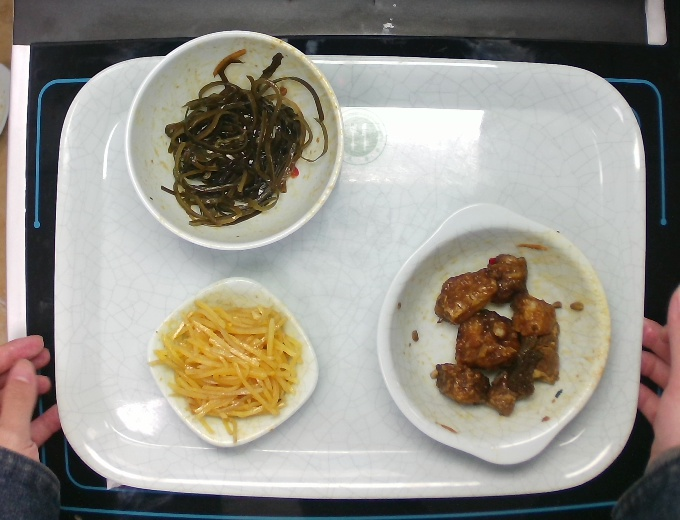JYsf-Fan_Wan: (122, 28, 344, 252)
JYsf-Shuang_Er_Wan: (375, 200, 615, 464)
JYsf-Si_Fang_Die: (146, 273, 324, 451)
